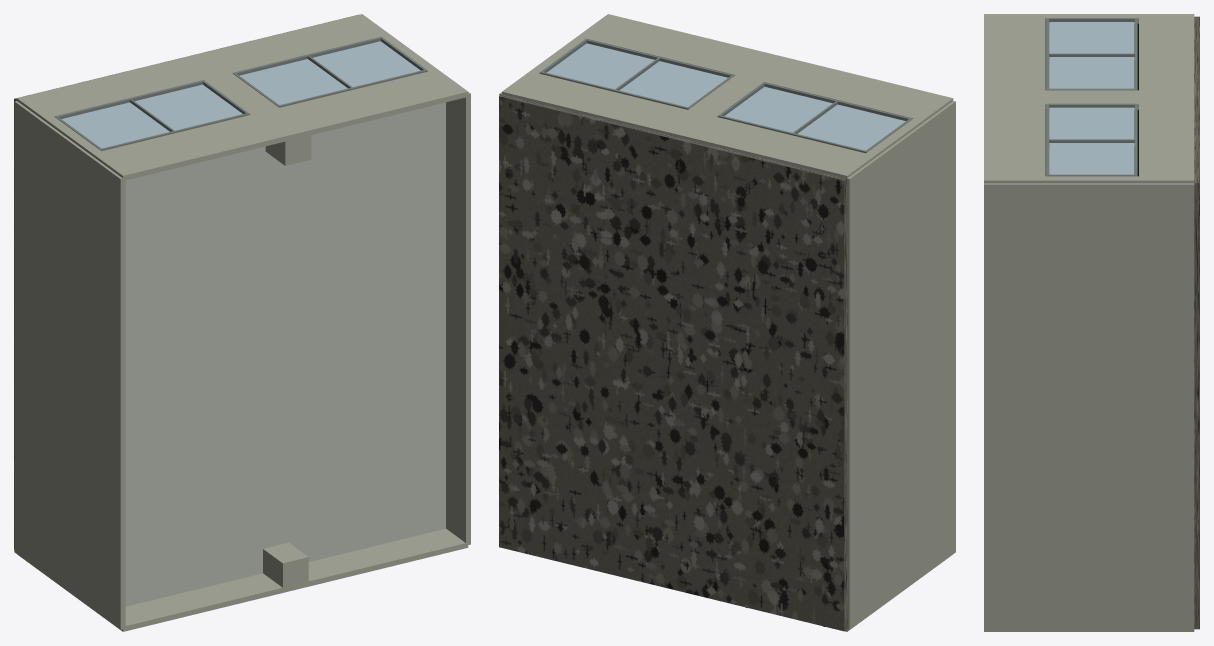
File: structure.obj
3 views of the same model, side by side, from view 1: azimuth 30°, elevation 25°; view 2: azimuth 150°, elevation 25°; view 3: azimuth 270°, elevation 25° (orthographic).
Visible parts, largest first — view 1: Ceiling_PVC_Mesh, Cube.012, Cube.017, Cube.018, Cube.001; view 2: Cube.001, Cube.012, Cube.017, Cube.018; view 3: Cube.012, Cube.017, Cube.001, Cube.018, Tile_west_170_3_Mesh.
Boxes of the visible parts, x1,y1,x2,y2 form: Ceiling_PVC_Mesh: (125, 102, 445, 606); Cube.012: (14, 14, 470, 631); Cube.017: (61, 41, 420, 148); Cube.018: (54, 36, 427, 151); Cube.001: (14, 14, 358, 549); Cube.001: (499, 94, 847, 631); Cube.012: (499, 14, 955, 631); Cube.017: (547, 43, 905, 150); Cube.018: (539, 39, 912, 153); Cube.012: (984, 14, 1194, 631); Cube.017: (1049, 22, 1134, 174); Cube.001: (1194, 16, 1199, 629); Cube.018: (1046, 18, 1137, 176); Tile_west_170_3_Mesh: (1134, 23, 1138, 176).
Size of the model in its own units: 7.05 by 8.79 by 3.8.
Materials: 12 (1 with a texture image).
